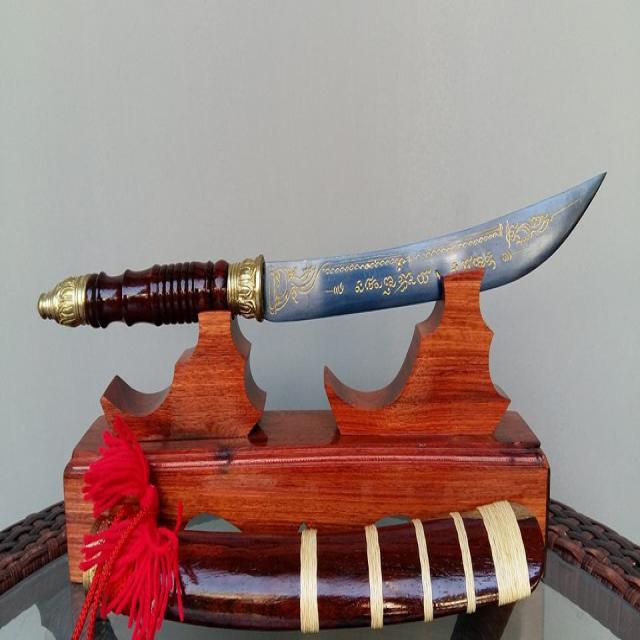long sword: (32, 164, 608, 343)
